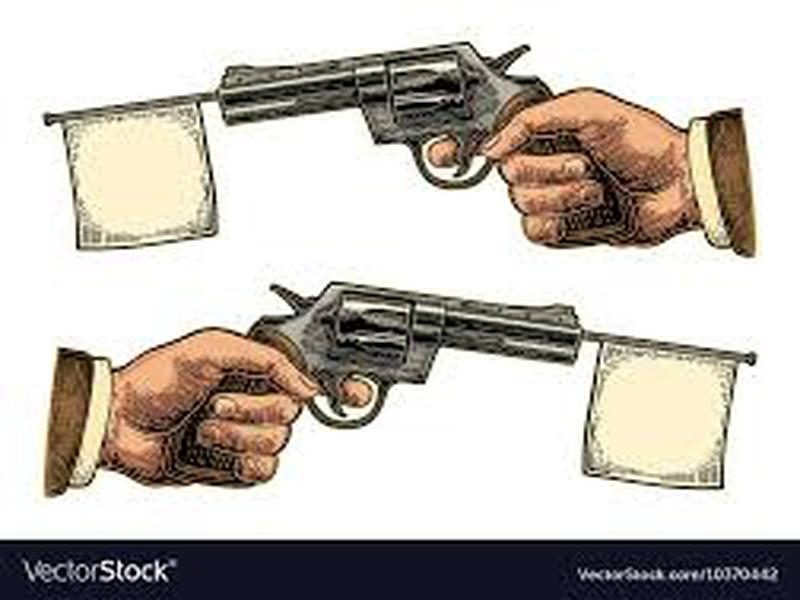gun: (210, 32, 758, 271), (46, 282, 574, 520)
